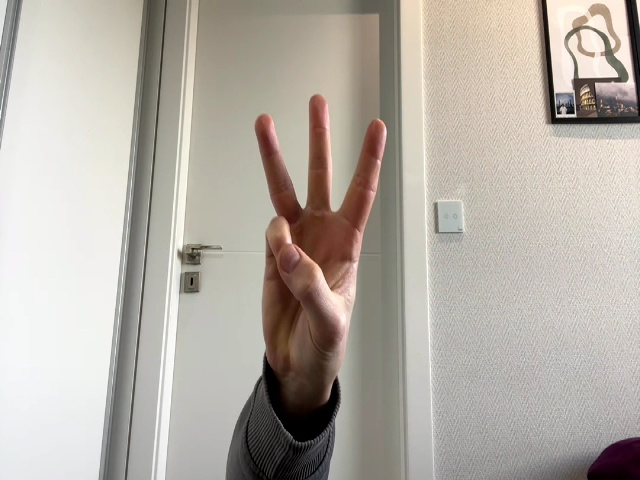W: (255, 94, 388, 379)
